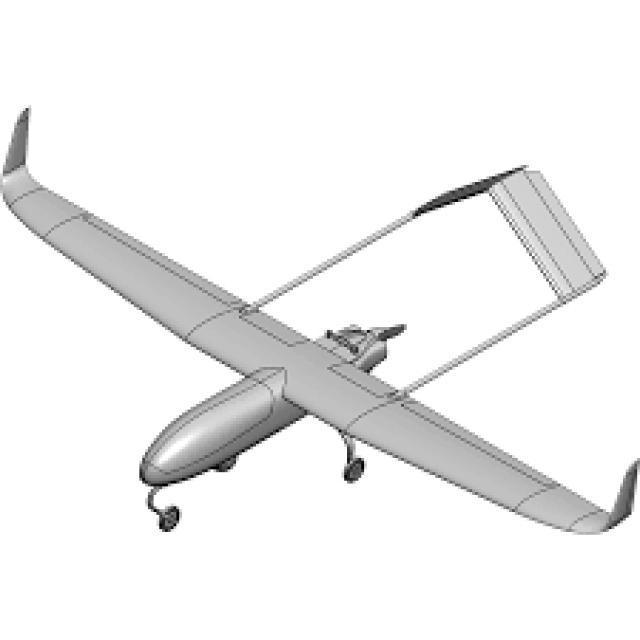iha: (2, 104, 636, 546)
